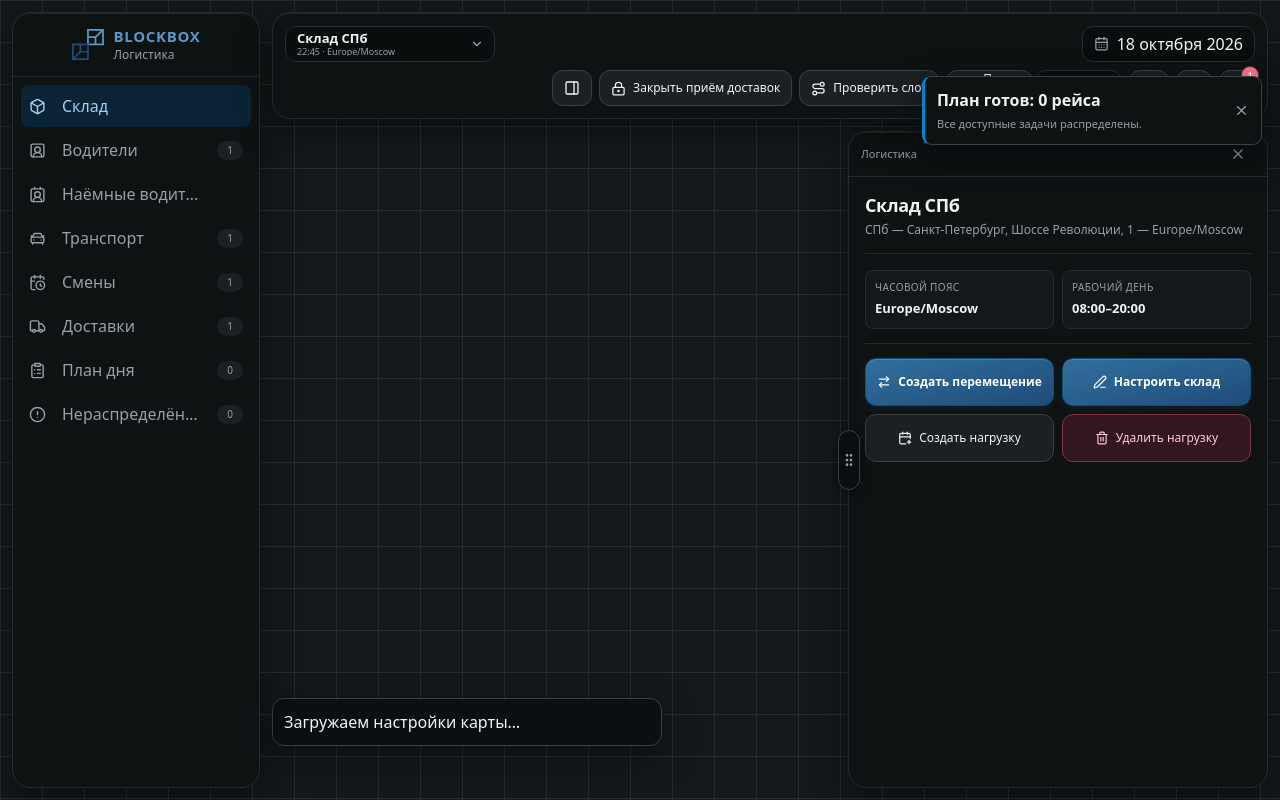
Test: warehouse automatic planning › offers an explicit route refresh after mandatory delivery changes and rebuilds only on demand
Check: the button with aria-label "Склад логистической группы" is shown, box 285,26 -> 495,62
Click the button "Доставки 1" at (136, 326), box 21,305 -> 251,347
(page scrolled)
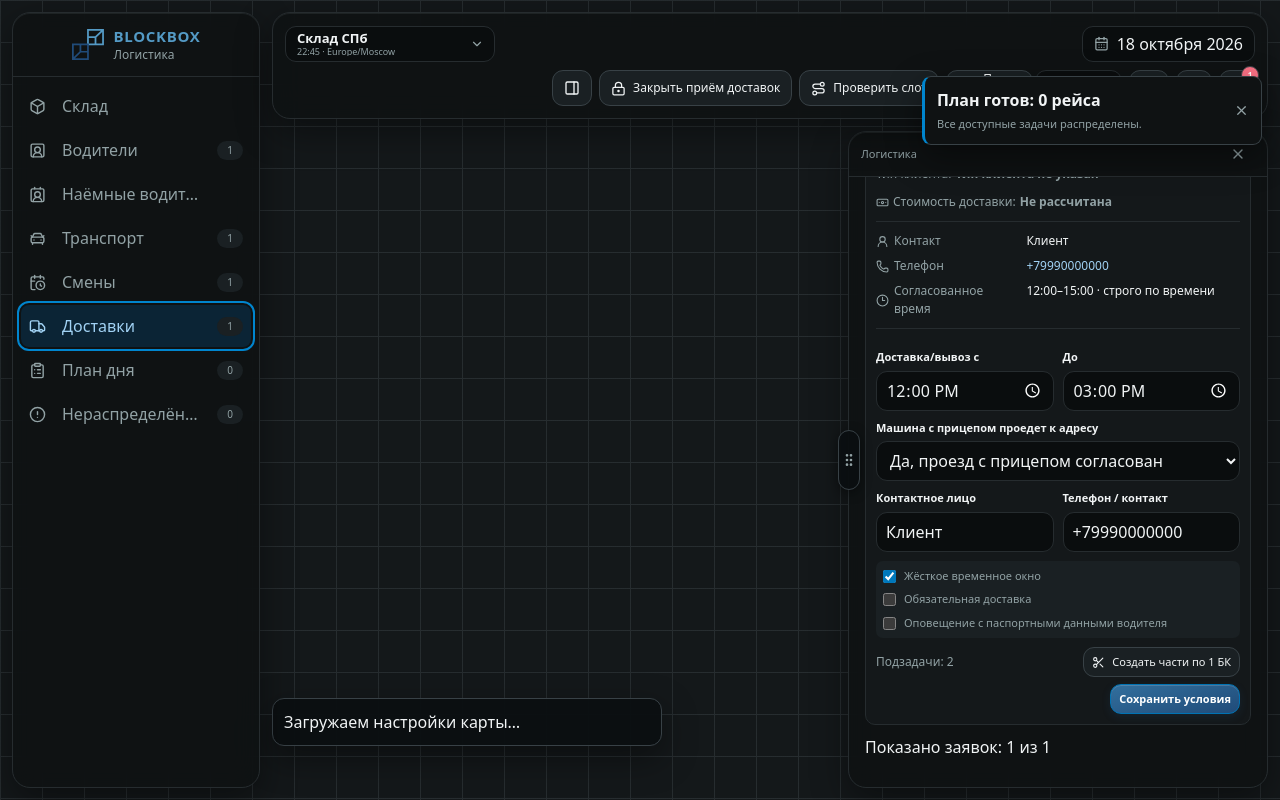
Click the checkbox labelled "Обязательная доставка" at (890, 600), box 883,593 -> 896,606
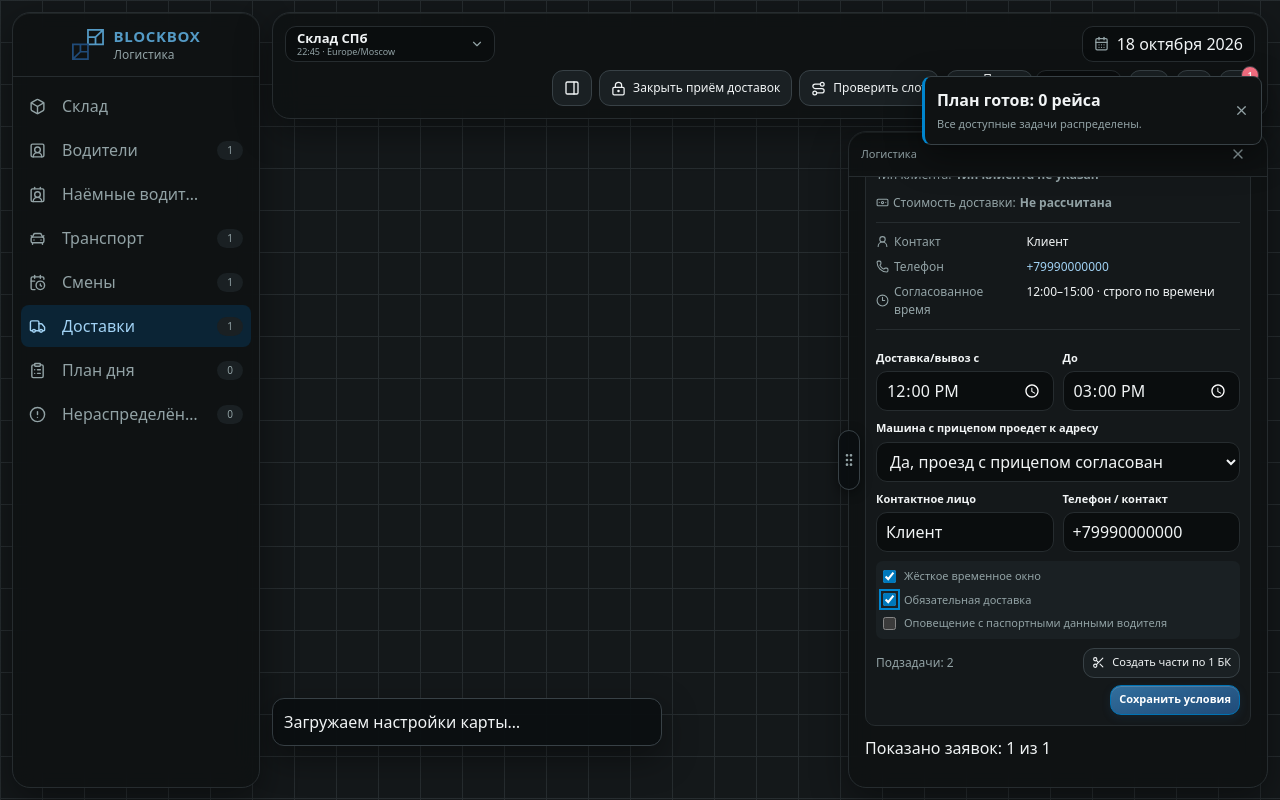
Click the button "Сохранить условия" at (1175, 700), box 1110,684 -> 1240,714
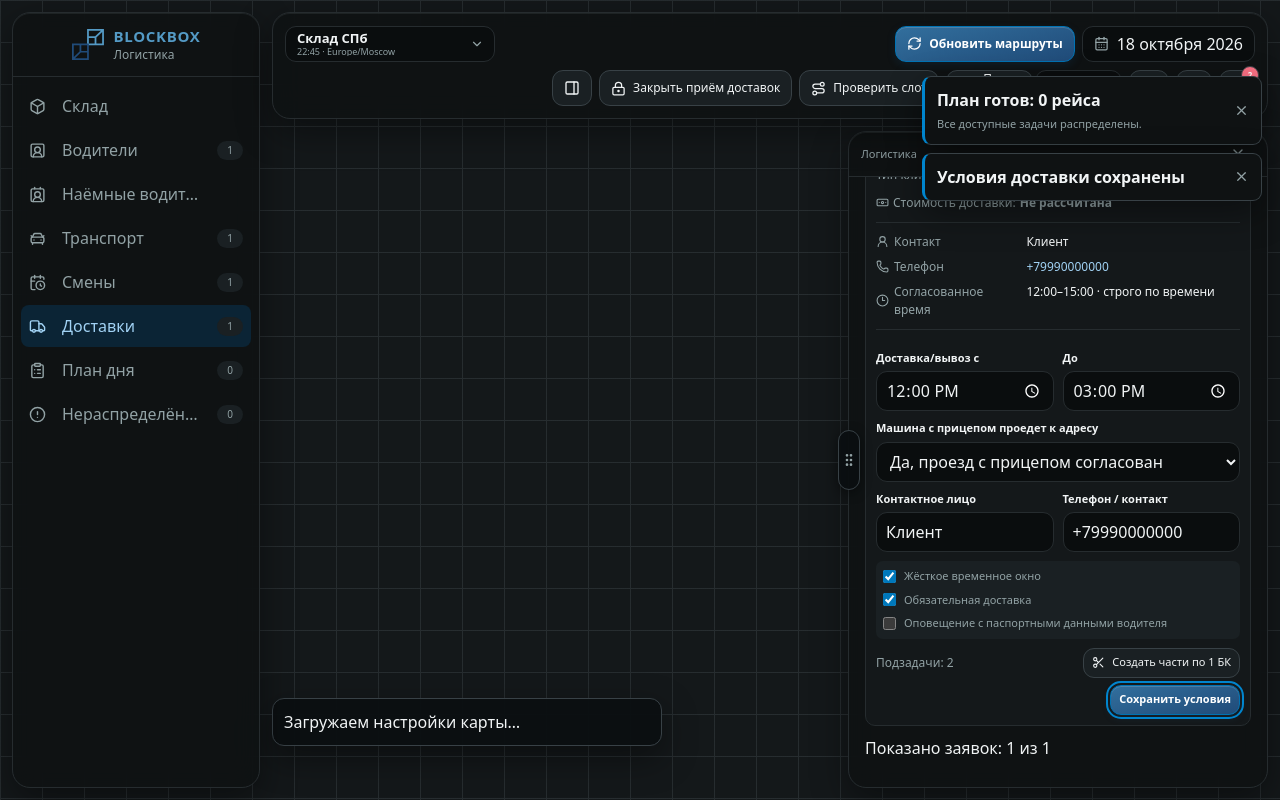
Click the button "Обновить маршруты" at (985, 44), box 895,26 -> 1075,62
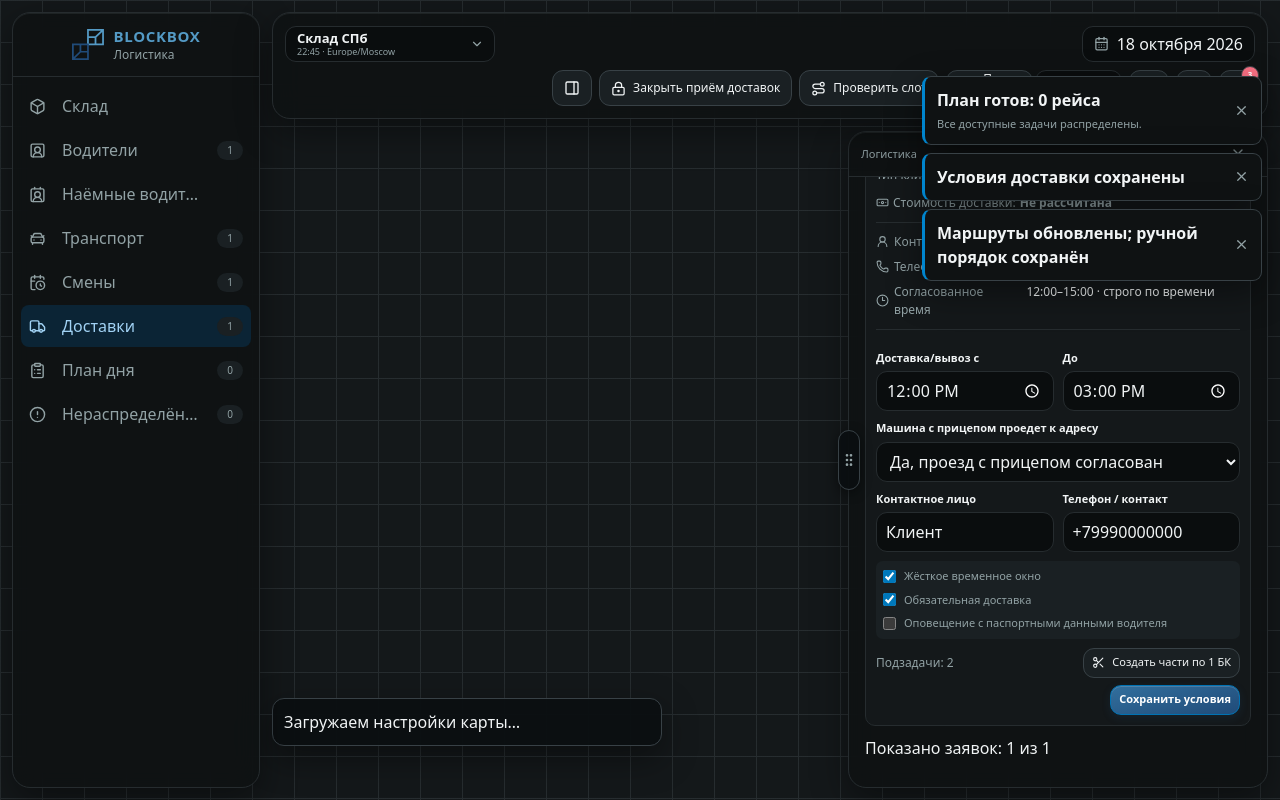
Check: the button "Обновить маршруты" is gone
